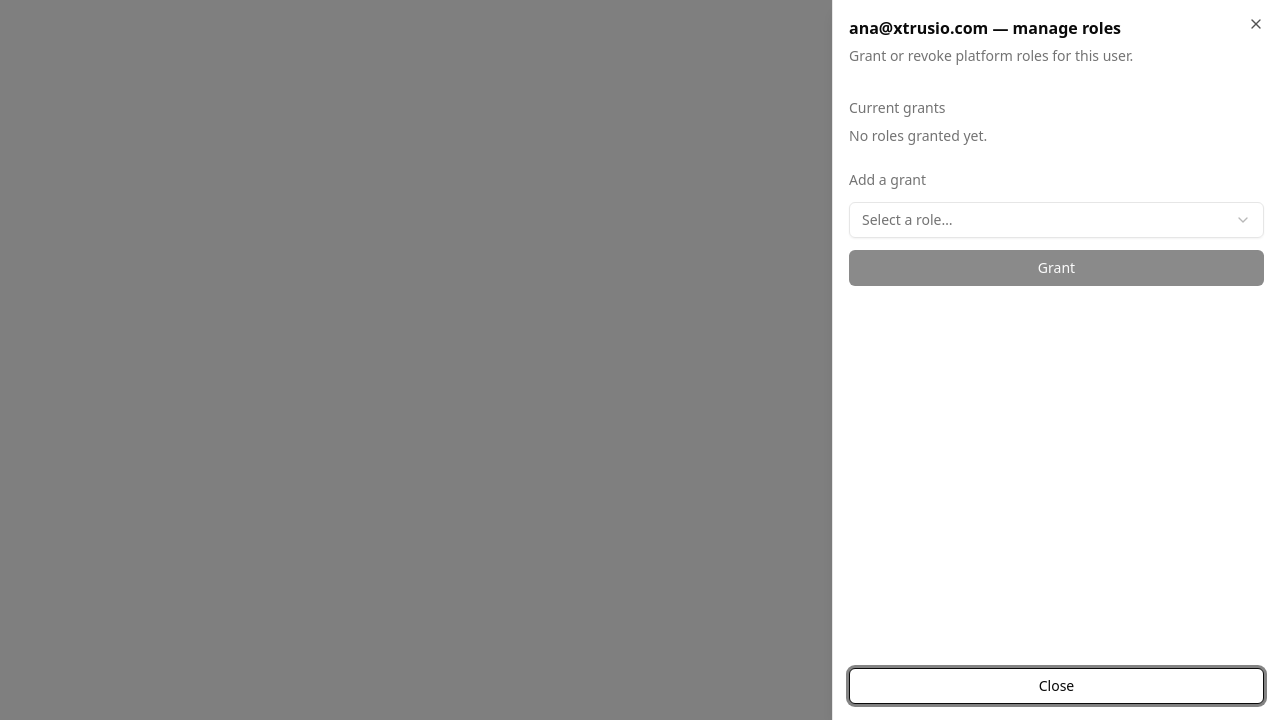
Test: <GrantManagerDialog scope='platform' /> › renders the privilege-escalation error inline when grant returns 403
This screenshot has width=1280, height=720.
Click the dropdown labelled "Select a role…".
click(907, 220)  # box [849, 202, 1264, 238]
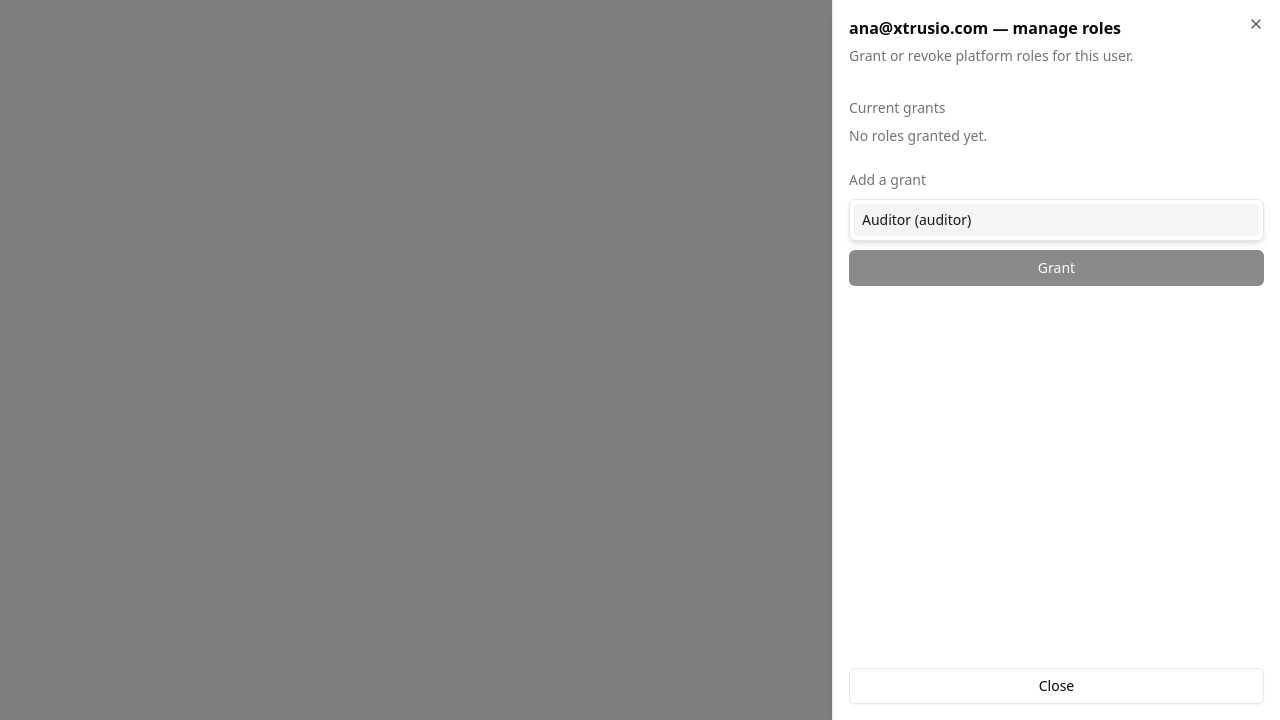
Click the option "Auditor (auditor)".
click(917, 220)  # box [854, 204, 1259, 236]
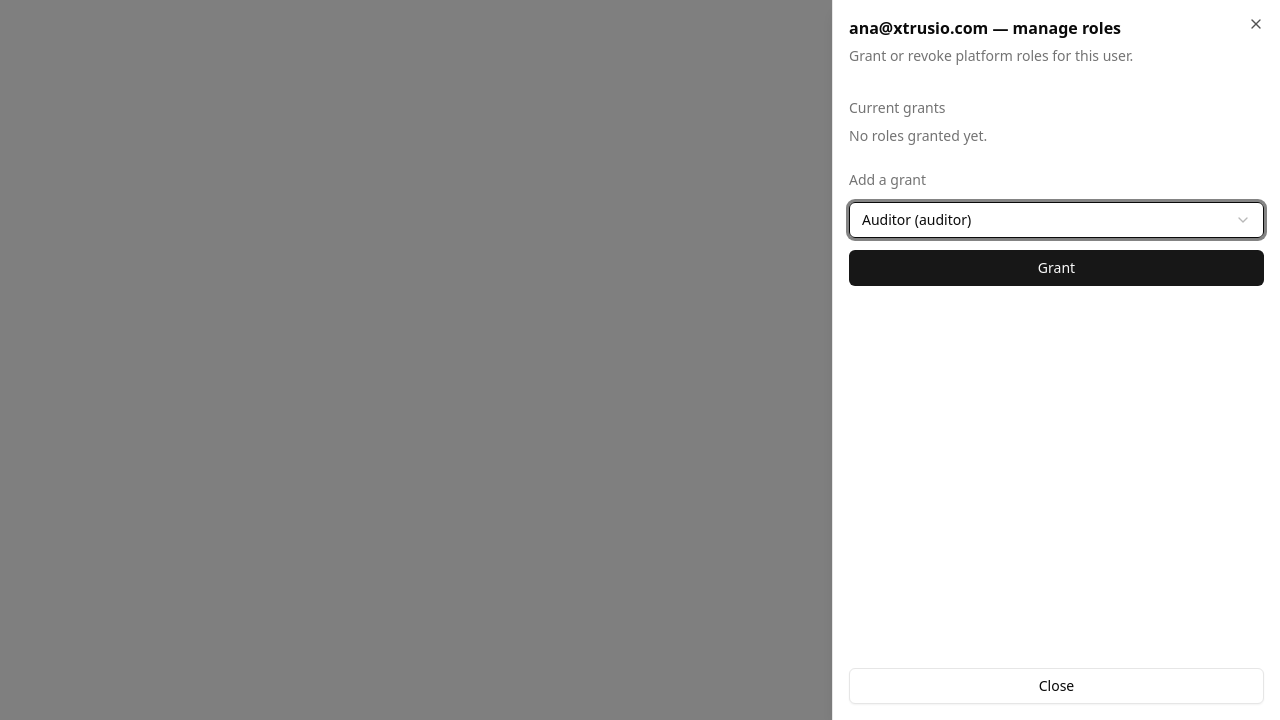
Click the button "Grant".
click(1056, 268)  # box [849, 250, 1264, 286]
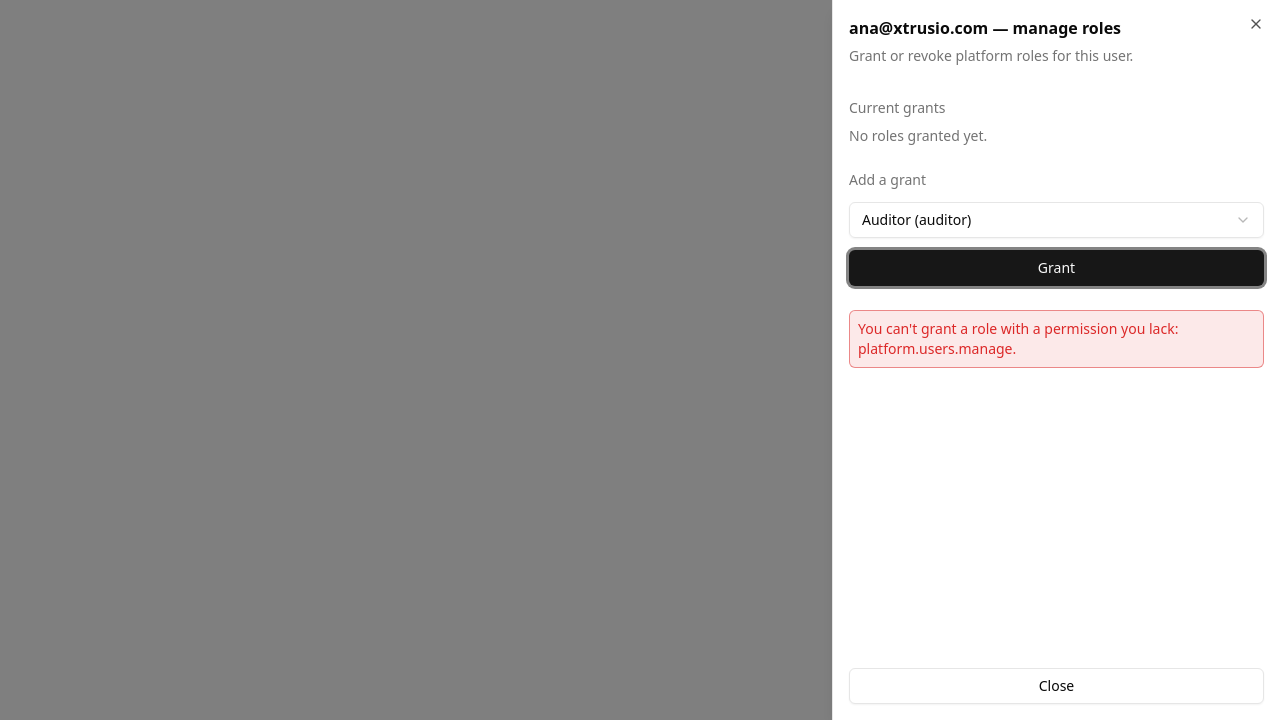
Expected: the text "You can't grant a role with a permission you lack: platform.users.manage." is shown, [849, 310, 1264, 368]
